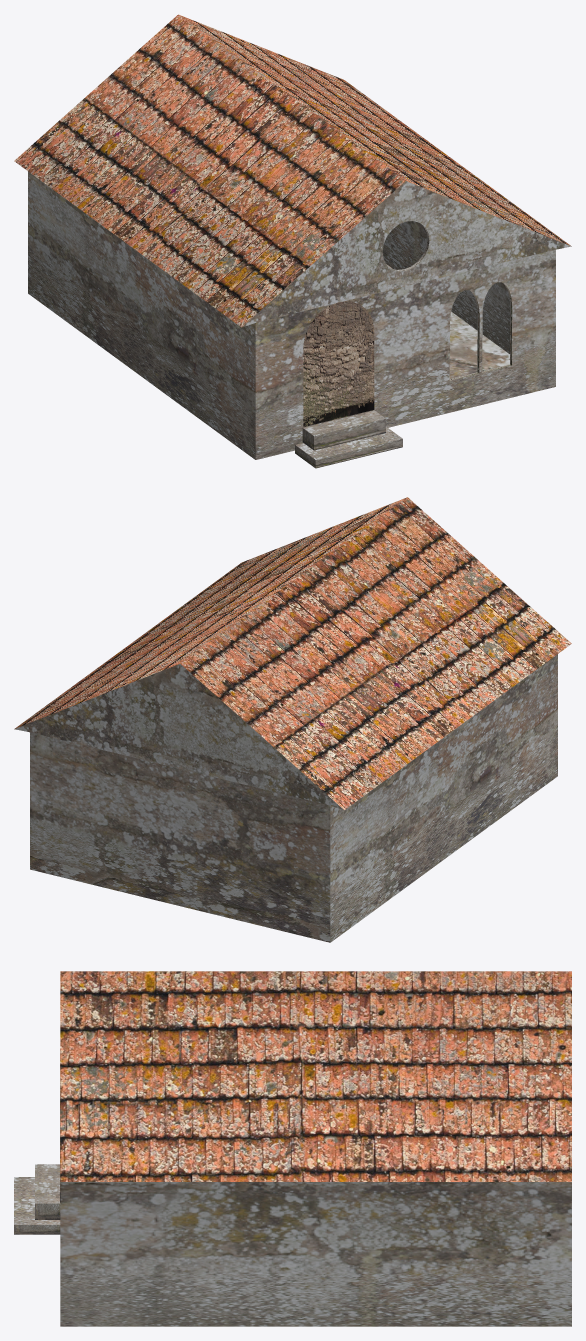
Rendered from cemetery_house.fbx.
The picture shows the model from 3 angles, top to bottom: view 1: azimuth 30°, elevation 25°; view 2: azimuth 150°, elevation 25°; view 3: azimuth 270°, elevation 25°; orthographic projection. The views are drawn at different scales.
Visible parts, largest first — view 1: pCube10, pCylinder5; view 2: pCube10; view 3: pCube10.
Part boxes in pixels (x1,y1,x2,y2): pCube10: (14,14,571,468); pCylinder5: (303,301,374,426); pCube10: (14,497,571,942); pCube10: (14,971,571,1326).
Bounding box in the file's own units: 26.15 × 18.57 × 34.01.
3 materials, 3 textured.
